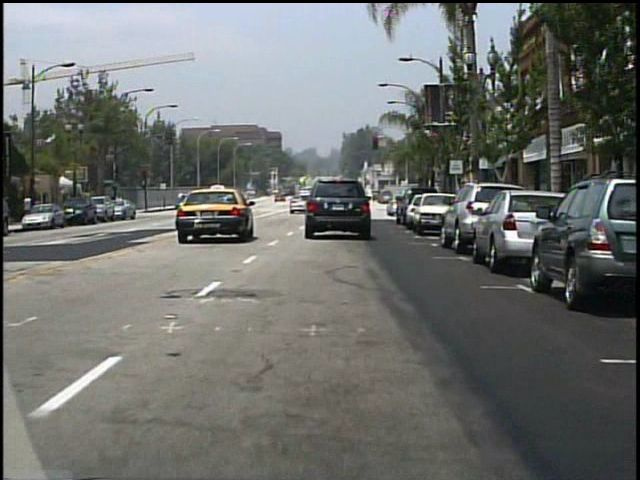person: (24, 192, 36, 224), (233, 189, 246, 212), (331, 190, 344, 213)
